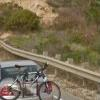Bicycle: (0, 63, 61, 100)
